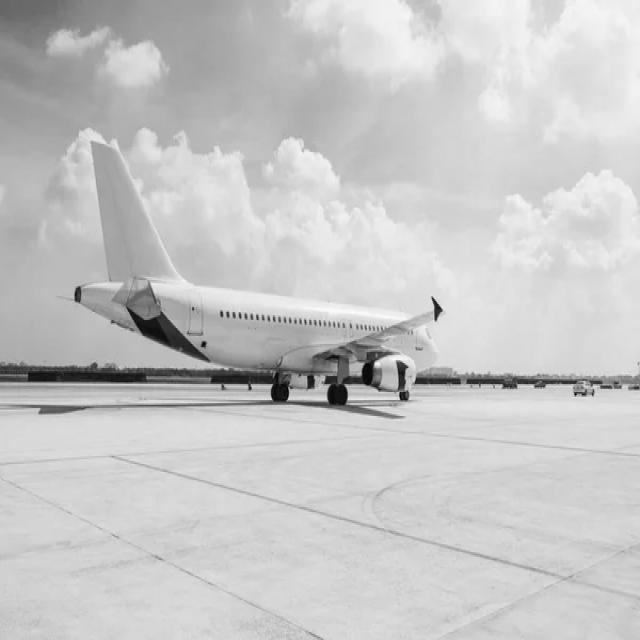Aircraft: (68, 129, 445, 413)
